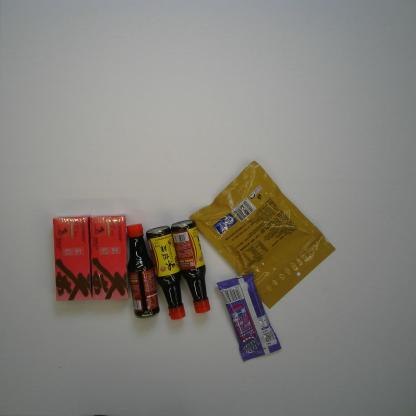Candy: (215, 271, 282, 363)
Dried Fruit: (189, 159, 336, 310)
Instant Drink: (52, 214, 92, 302), (89, 212, 128, 302)
Seasoner: (146, 225, 186, 321), (171, 219, 211, 314), (126, 223, 160, 319)
